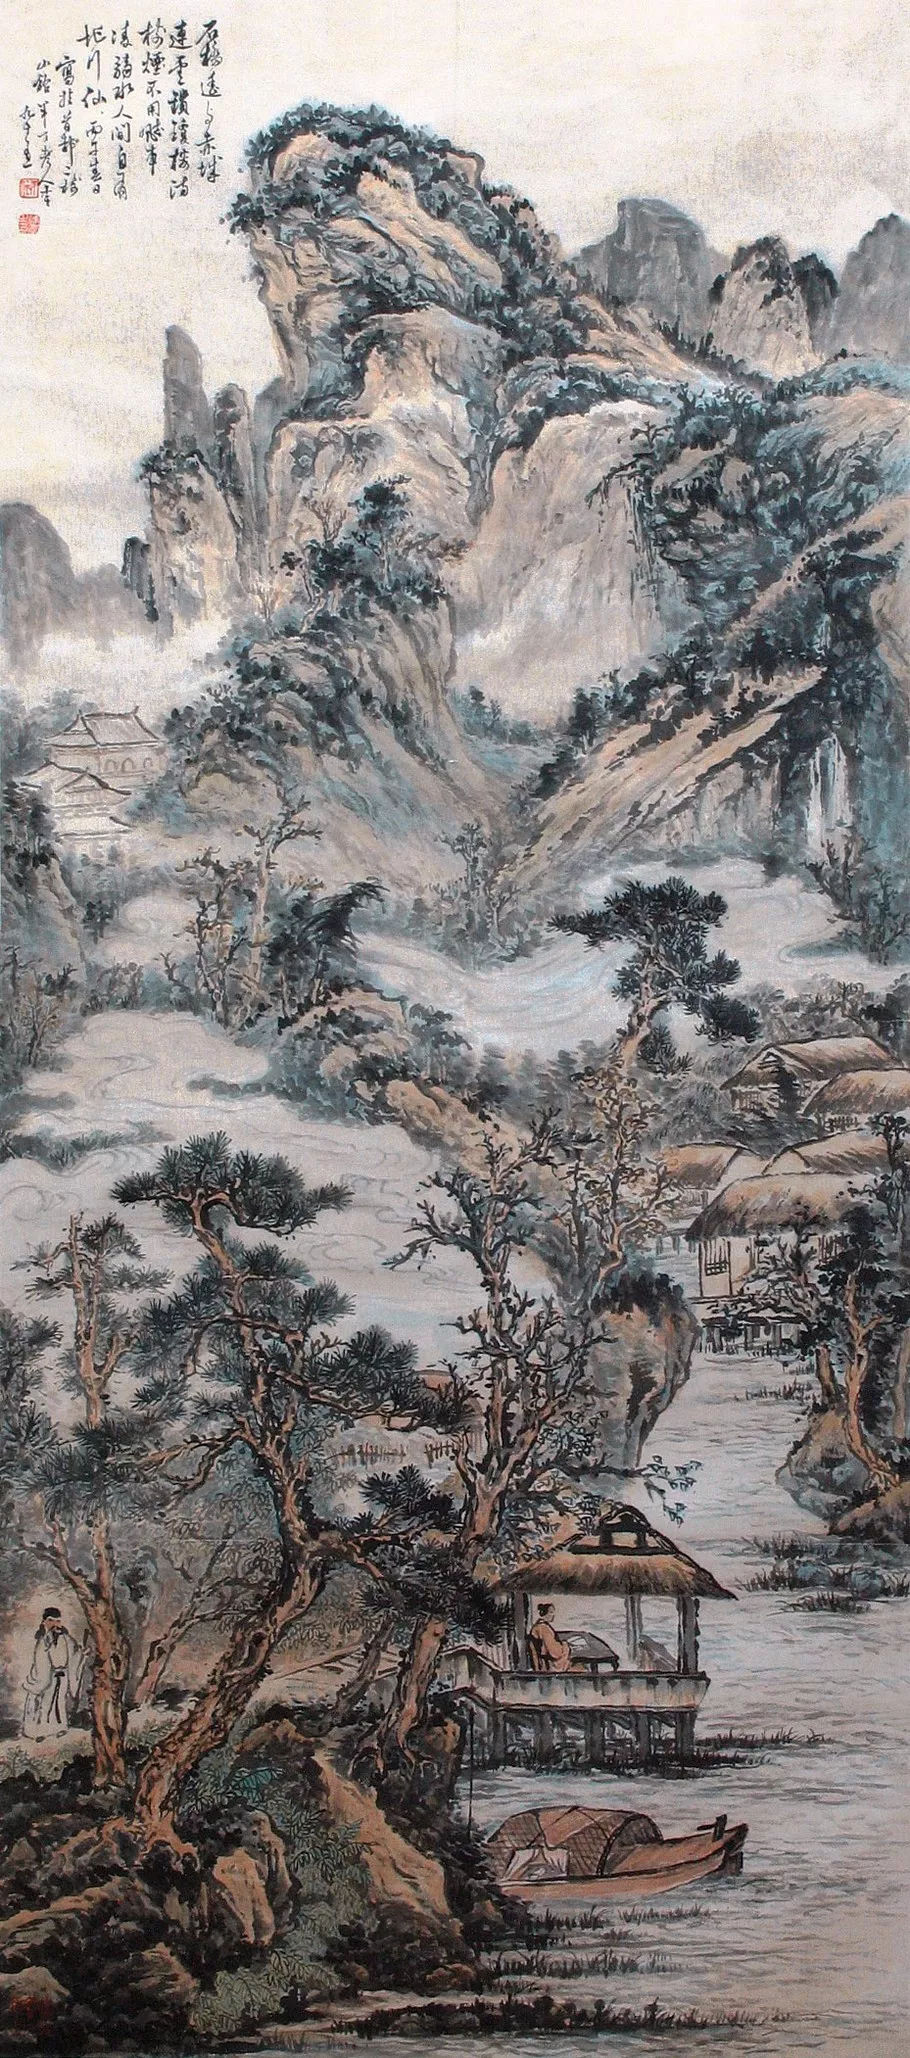boat: (484, 1789, 753, 1918)
booth: (468, 1479, 713, 1777)
house: (696, 1132, 839, 1332), (725, 1037, 910, 1144), (651, 1134, 763, 1227)
man: (27, 1589, 84, 1746)
mountain: (244, 99, 910, 432), (599, 368, 910, 901), (187, 613, 468, 827)
pine: (51, 1134, 463, 1849), (556, 872, 756, 1268), (630, 382, 901, 572), (777, 1210, 894, 1472), (192, 846, 384, 987), (311, 491, 468, 606)
woman: (530, 1596, 565, 1677)
